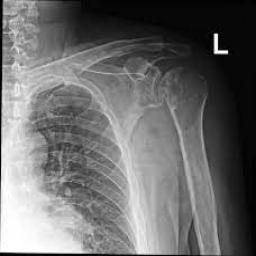cancer: (157, 67, 208, 133)
